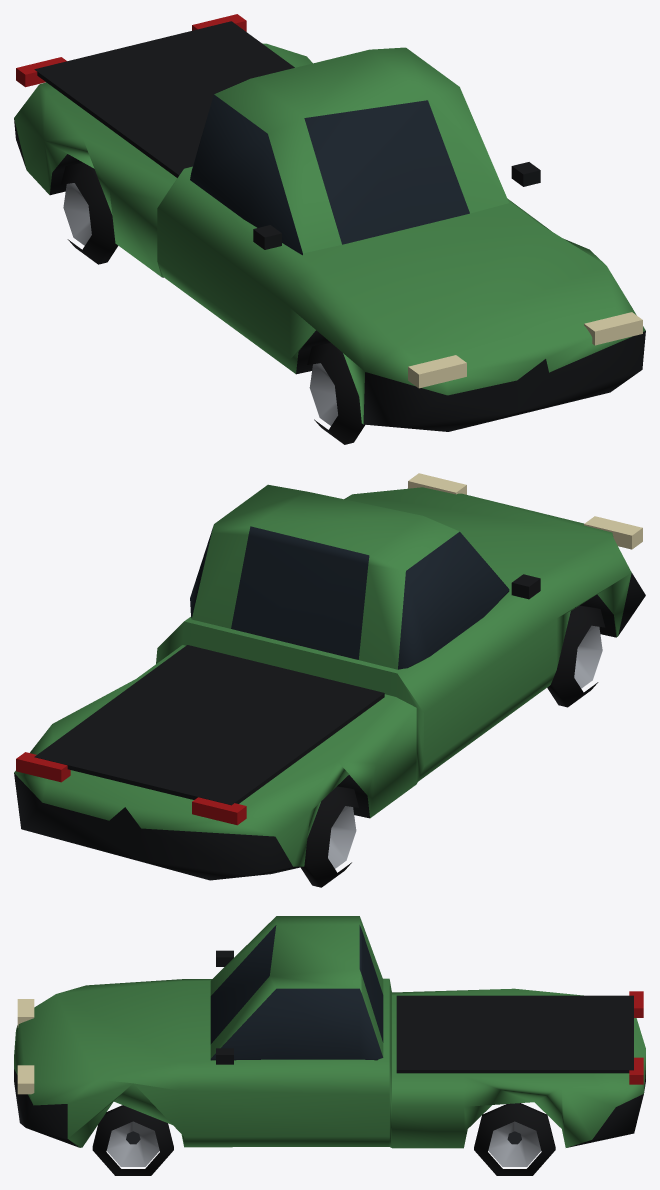
File: mobile-low.glb
The picture shows the model from 3 angles, top to bottom: view 1: azimuth 30°, elevation 25°; view 2: azimuth 150°, elevation 25°; view 3: azimuth 270°, elevation 25°; orthographic projection. The views are drawn at different scales.
Parts seen in each view (by area): view 1: body, tyre_fr, tyre_rr, light_head_r, light_head_l, rim_rr, rim_fr, light_brake_r; view 2: body, tyre_rr, tyre_fr, rim_rr, rim_fr, light_brake_r, light_brake_l, light_head_r, light_head_l; view 3: body, tyre_rl, tyre_fl, rim_fl, rim_rl, light_head_l, light_head_r.
Boxes of the visible parts, <box> form: body: <box>14,21,645,431</box>; tyre_fr: <box>307,343,365,444</box>; tyre_rr: <box>61,163,118,264</box>; light_head_r: <box>408,355,466,388</box>; light_head_l: <box>584,312,642,345</box>; rim_rr: <box>63,183,91,245</box>; rim_fr: <box>309,363,337,425</box>; light_brake_r: <box>16,57,66,87</box>; body: <box>14,484,645,880</box>; tyre_rr: <box>300,786,358,887</box>; tyre_fr: <box>547,605,605,707</box>; rim_rr: <box>328,806,356,868</box>; rim_fr: <box>574,625,602,688</box>; light_brake_r: <box>192,797,246,825</box>; light_brake_l: <box>16,752,70,782</box>; light_head_r: <box>584,516,642,549</box>; light_head_l: <box>408,473,466,494</box>; body: <box>14,916,645,1148</box>; tyre_rl: <box>474,1103,555,1175</box>; tyre_fl: <box>92,1105,173,1175</box>; rim_fl: <box>106,1121,159,1166</box>; rim_rl: <box>488,1121,541,1166</box>; light_head_l: <box>17,1065,34,1094</box>; light_head_r: <box>17,999,34,1027</box>.
Size of what is drawn, in the model's own units: 2.07 by 1.69 by 5.3.
